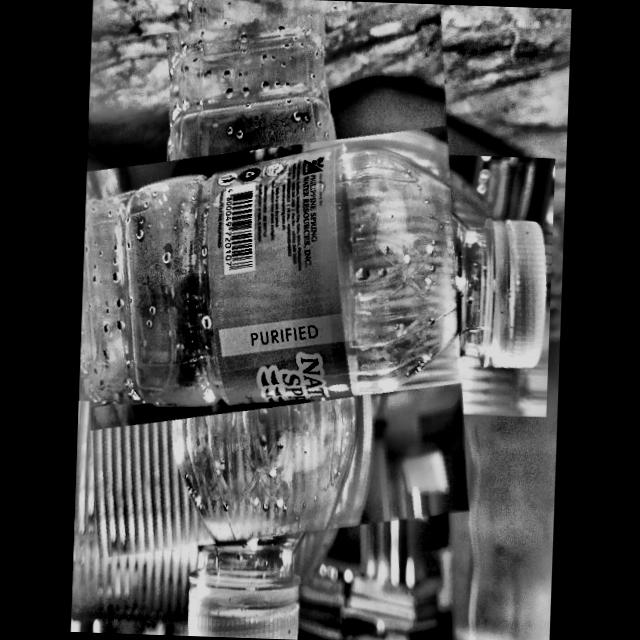Plastic-Bottle: (72, 0, 475, 556)
